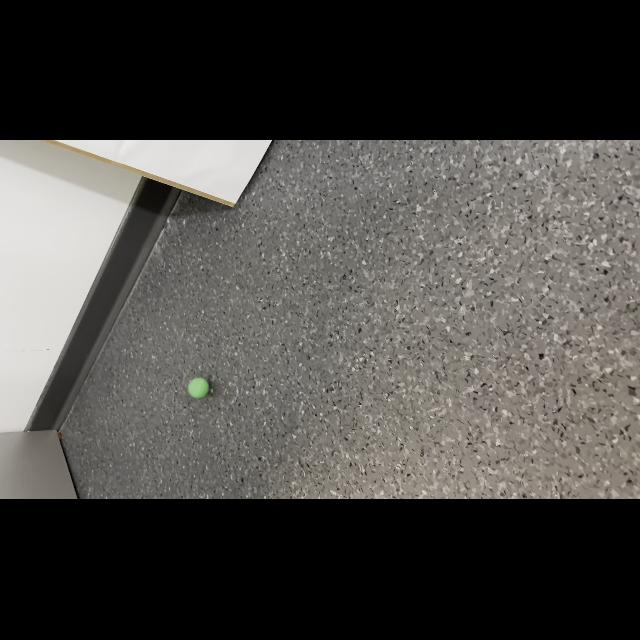objects: (184, 375, 212, 401)
